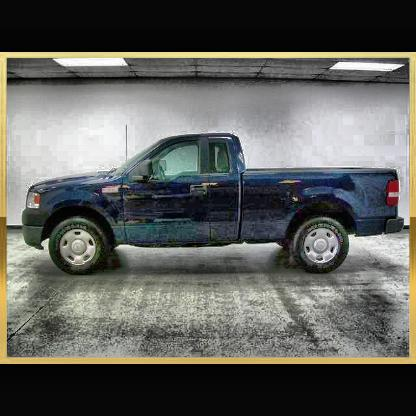Ford F-150 Regular Cab 2007: (21, 135, 406, 280)
